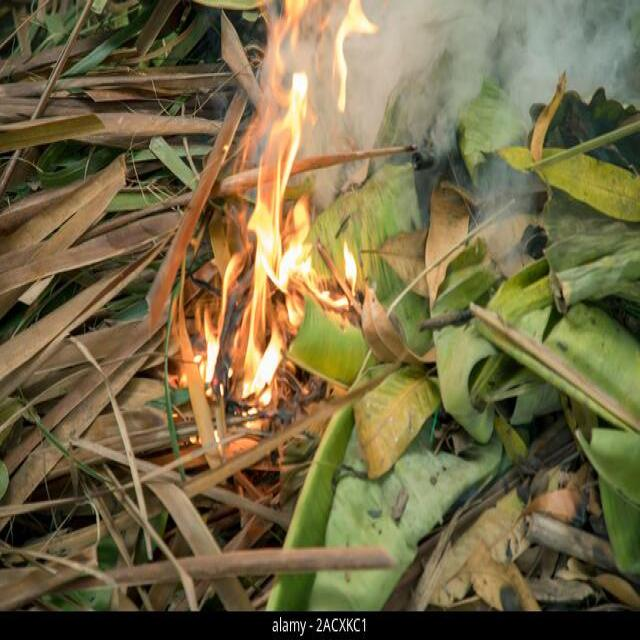fire: (194, 0, 378, 418)
